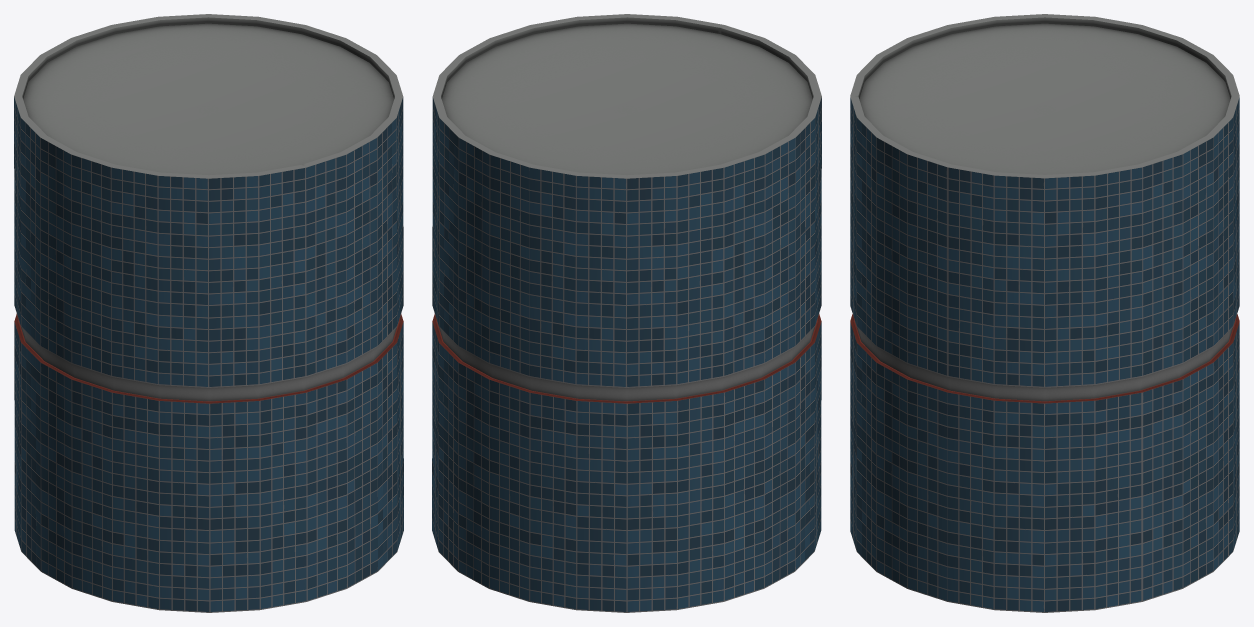
3 views of the same model, side by side, from view 1: azimuth 30°, elevation 25°; view 2: azimuth 150°, elevation 25°; view 3: azimuth 270°, elevation 25° (orthographic).
Visible parts, largest first — view 1: Body; view 2: Body; view 3: Body.
Boxes of the visible parts, x1,y1,x2,y2 form: Body: [14, 14, 403, 612]; Body: [432, 14, 821, 612]; Body: [850, 14, 1239, 612].
Size of the model in its own units: 171 by 211 by 171.
Materials: 1 (1 with a texture image).
